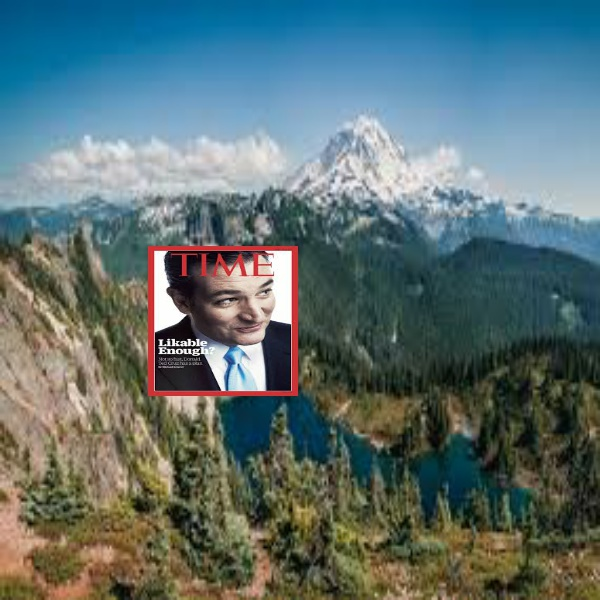time_cover: (148, 237, 309, 405)
